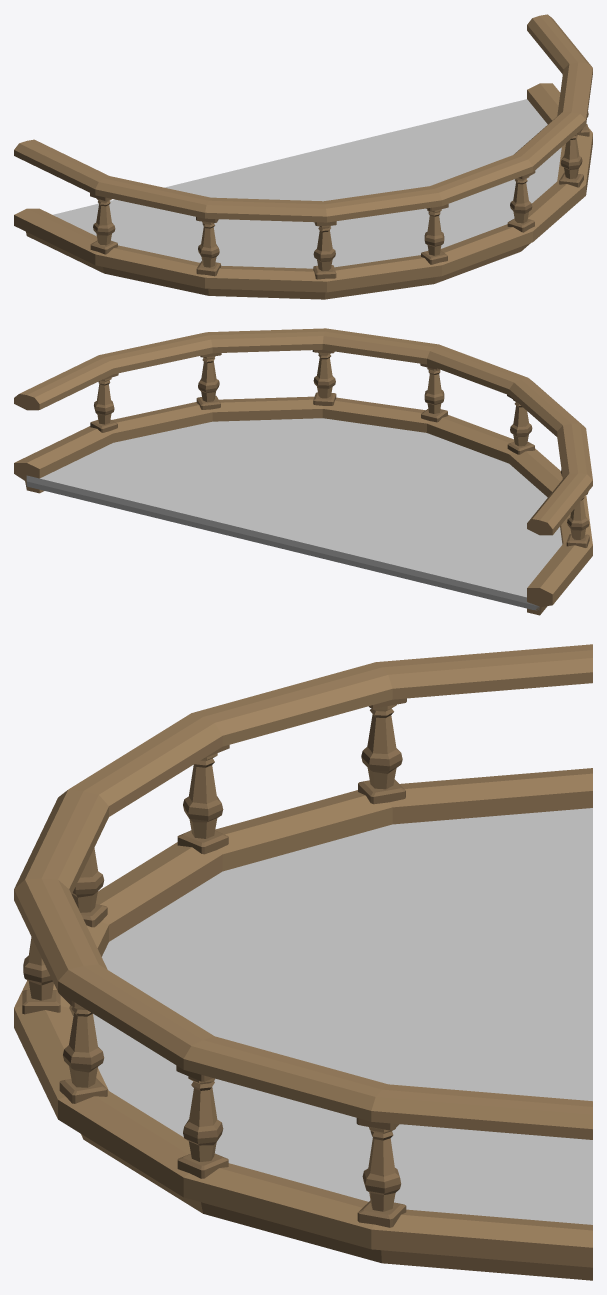
Rendered from SM_Bld_Balcony_Manor_02.fbx.
3 renders of one model, top to bottom at view 1: azimuth 30°, elevation 25°; view 2: azimuth 150°, elevation 25°; view 3: azimuth 270°, elevation 25°, orthographic. The views are drawn at different scales.
Visible parts, largest first — view 1: SM_Bld_Balcony_Manor_02; view 2: SM_Bld_Balcony_Manor_02; view 3: SM_Bld_Balcony_Manor_02.
Boxes of the visible parts, x1,y1,x2,y2 form: SM_Bld_Balcony_Manor_02: (14, 14, 592, 299); SM_Bld_Balcony_Manor_02: (14, 328, 592, 615); SM_Bld_Balcony_Manor_02: (14, 644, 592, 1280).
Bounding box in the file's own units: 511 × 86.29 × 261.
